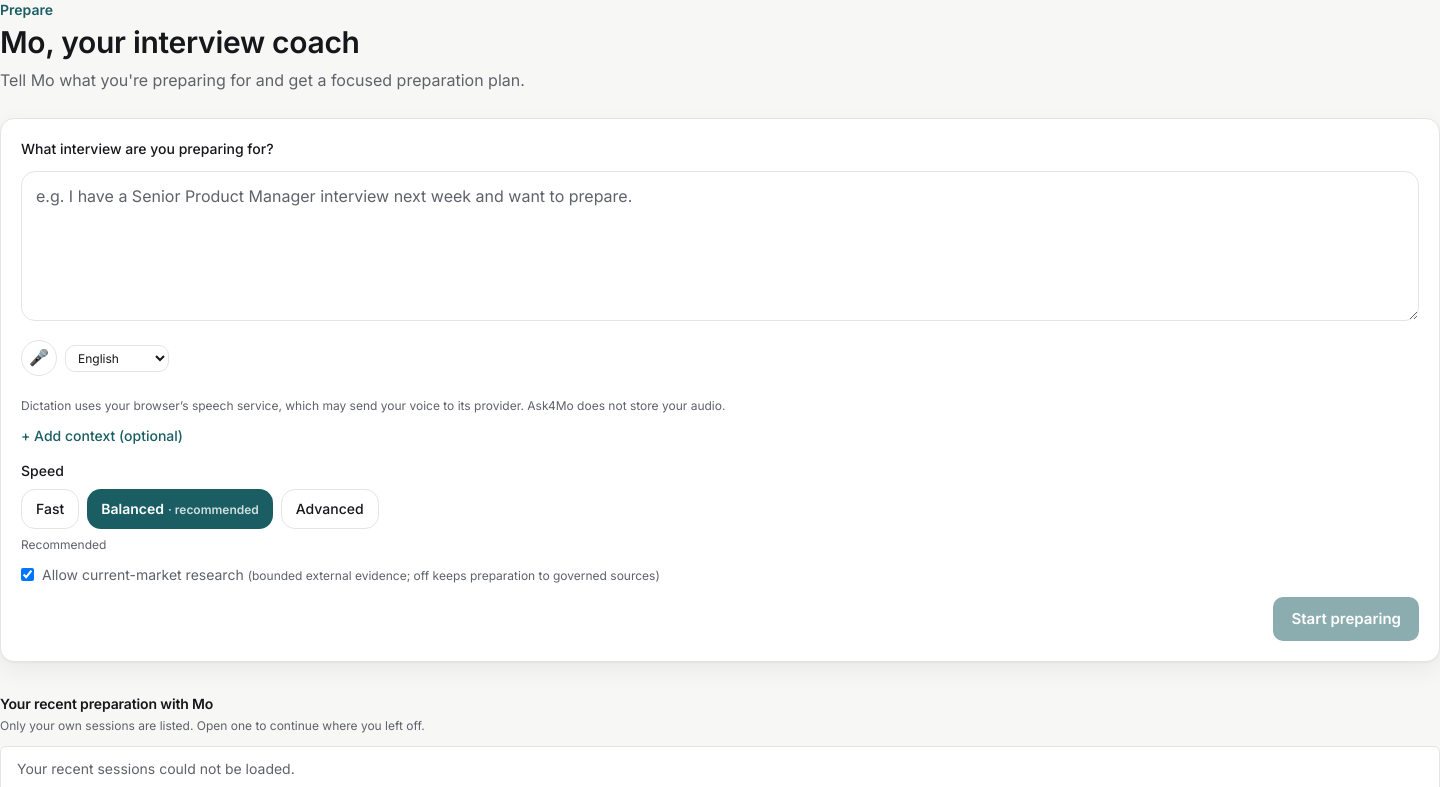
Practice handoff provenance card › omits missing fields (no fabrication)
Type "Prep" into the text box labelled "What interview are you preparing for?". click: (720,246)
box: x1=21 y1=171 x2=1419 y2=321
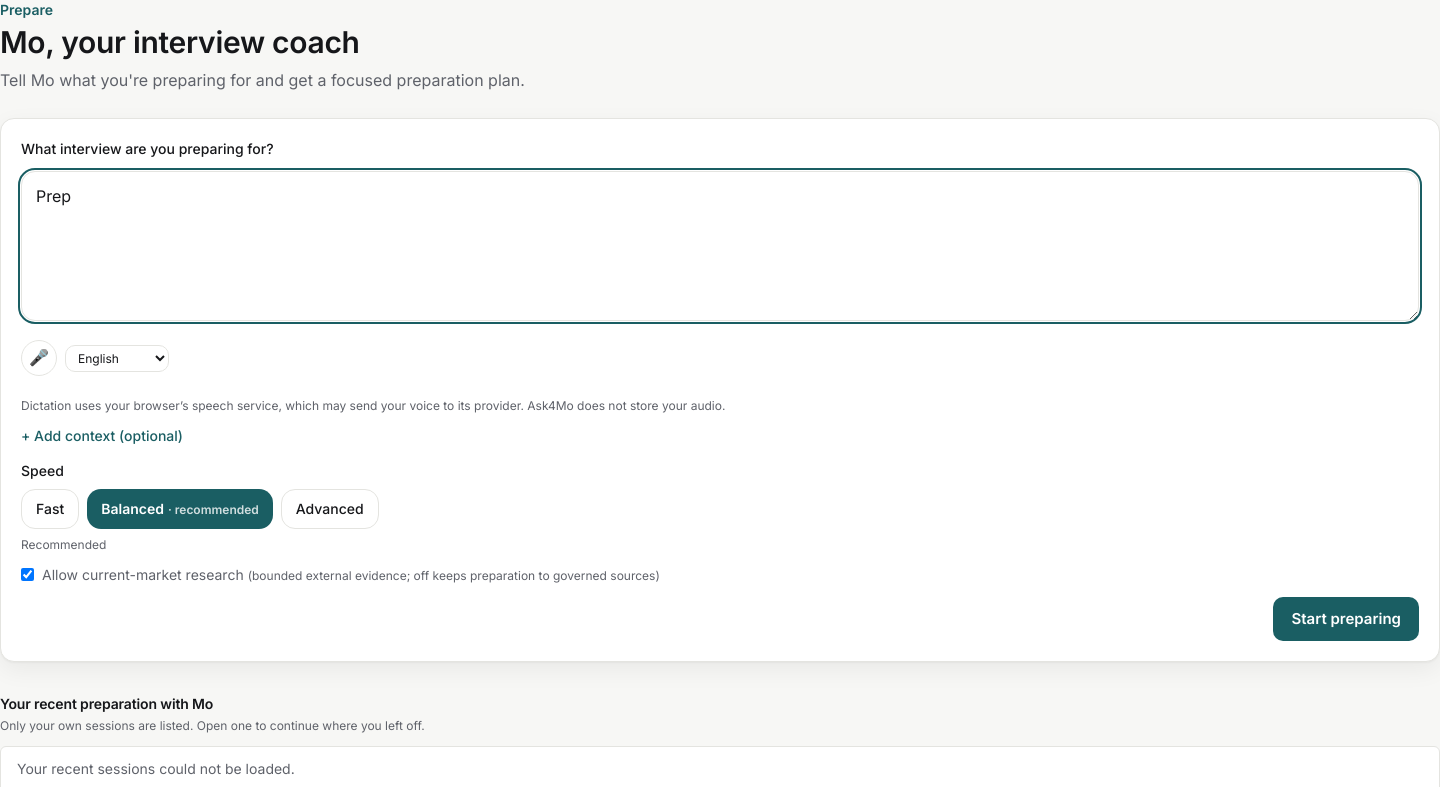
Click the button "Start preparing". click: (1346,619)
box: x1=1273 y1=597 x2=1419 y2=641
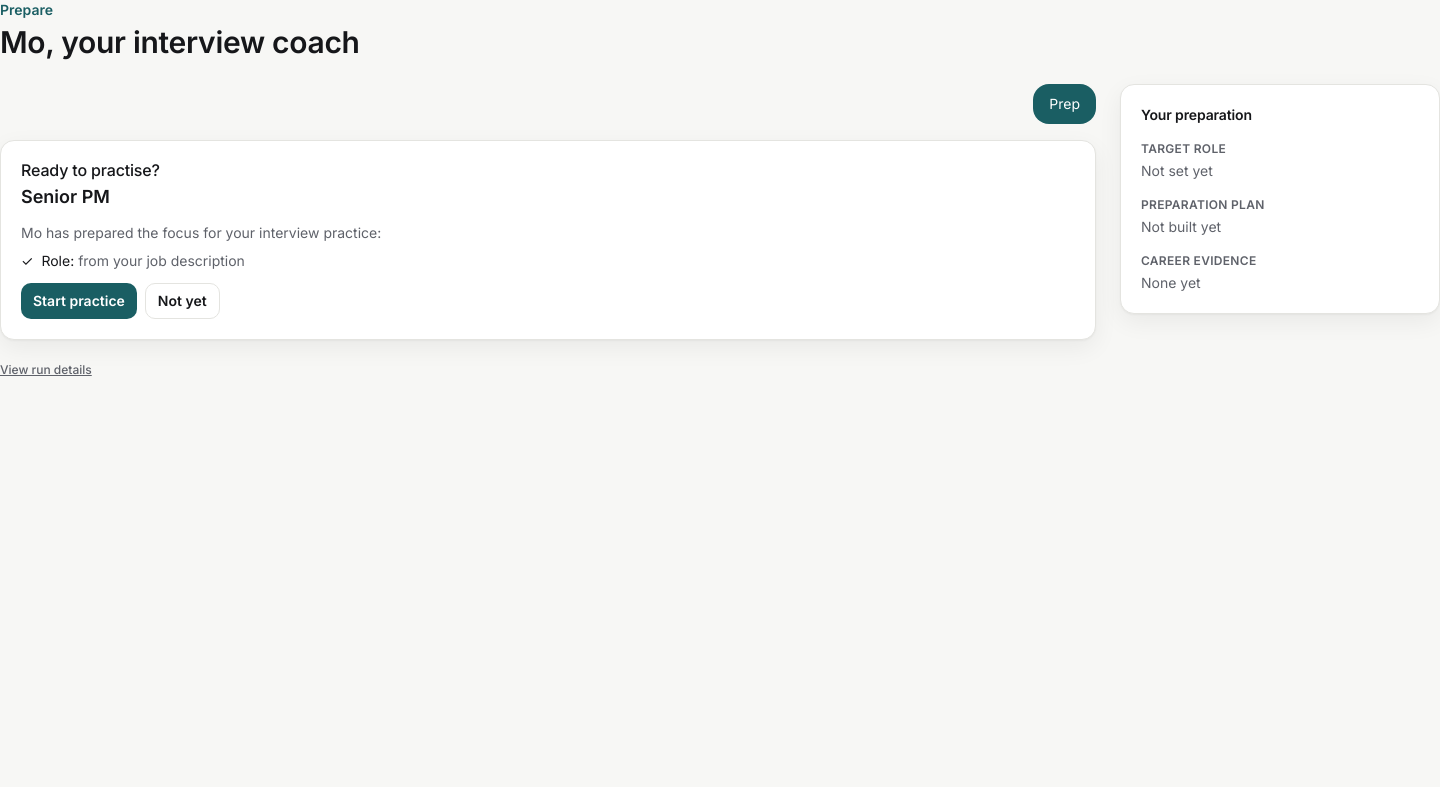
Expected: the heading "Ready to practise?" is shown, x1=21 y1=160 x2=160 y2=180
Expected: the text "from your job description" is shown, x1=78 y1=252 x2=245 y2=269
